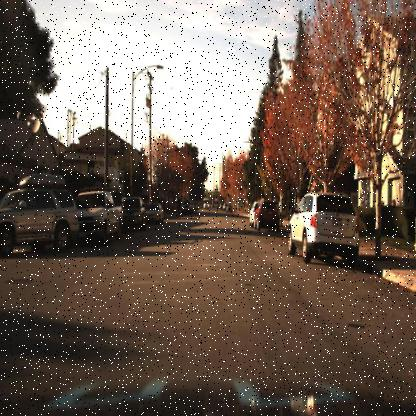car: (0, 174, 81, 256), (286, 188, 362, 269), (288, 189, 362, 268), (72, 186, 125, 245), (74, 191, 126, 246), (254, 195, 283, 233), (118, 196, 146, 232), (121, 194, 146, 233), (144, 198, 166, 228), (142, 201, 165, 225), (179, 197, 195, 216)
